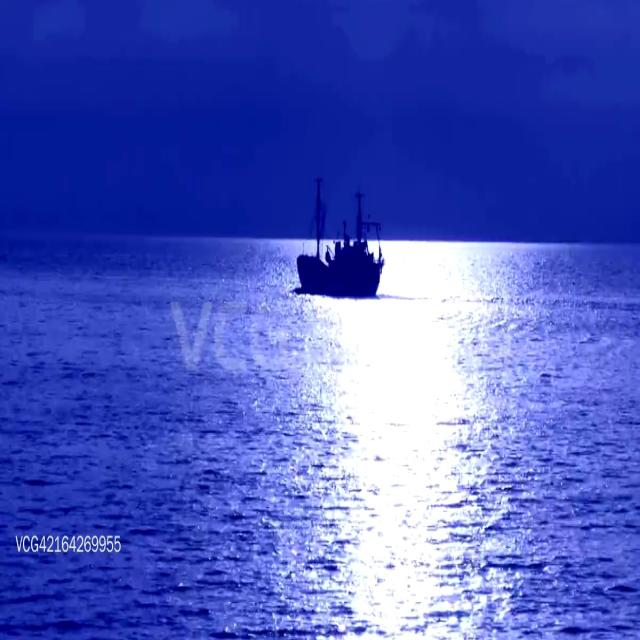houseboat: (292, 175, 384, 298)
